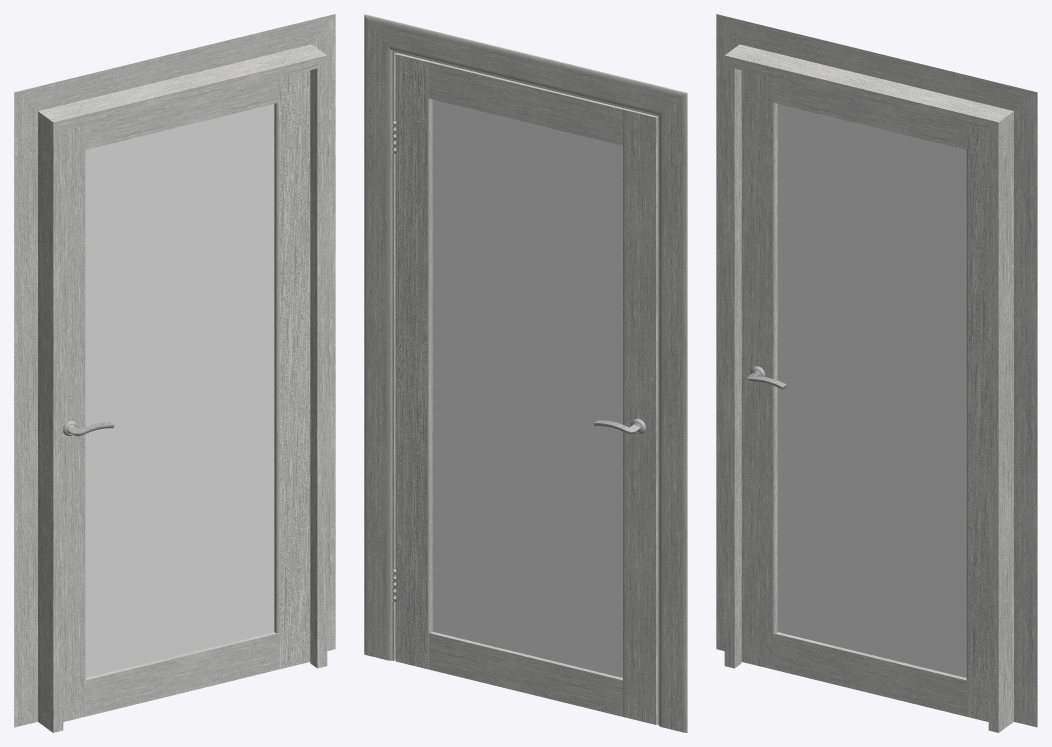
Rendered from 1_siteDraco.gltf.
3 renders of one model, left to right at view 1: azimuth 30°, elevation 25°; view 2: azimuth 150°, elevation 25°; view 3: azimuth 330°, elevation 25°, orthographic.
Parts seen in each view (by area): view 1: 401site; view 2: 401site; view 3: 401site.
Boxes of the visible parts, x1,y1,x2,y2 form: 401site: (14,14,335,732); 401site: (364,14,687,732); 401site: (716,14,1037,732).
Size of the model in its own units: 1.11 by 2.11 by 0.1635.
3 materials, 1 textured.
